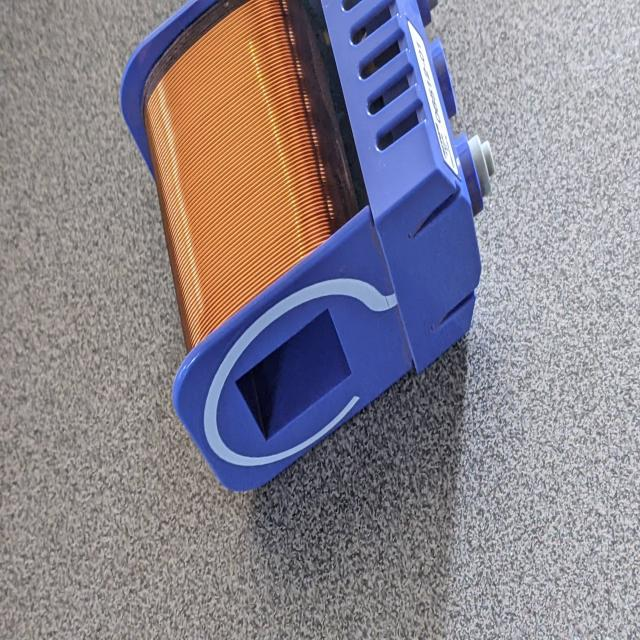Solenoid: (111, 3, 499, 510)
